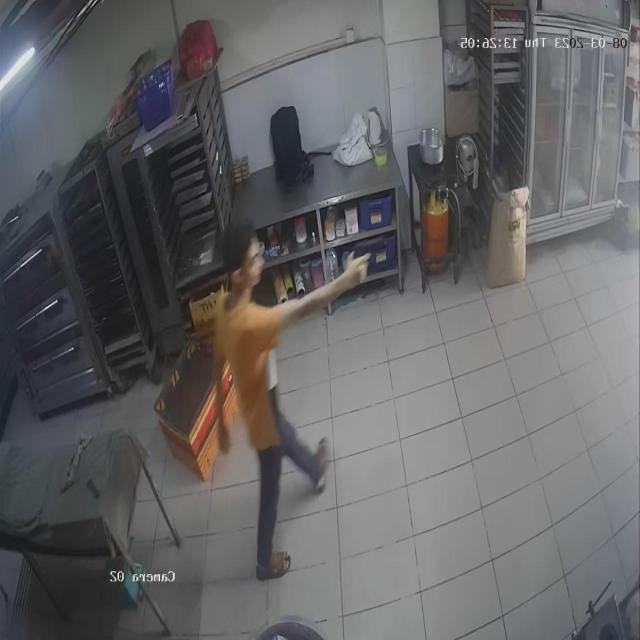Gun: (346, 222, 396, 278)
